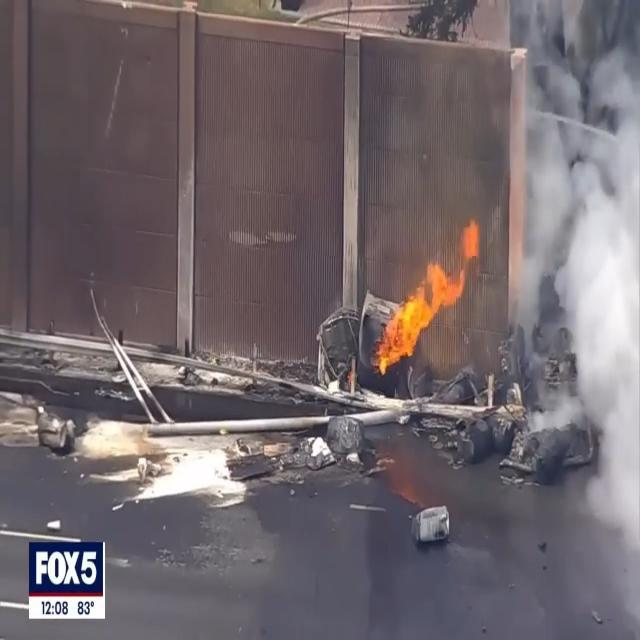fire: (374, 264, 458, 377)
